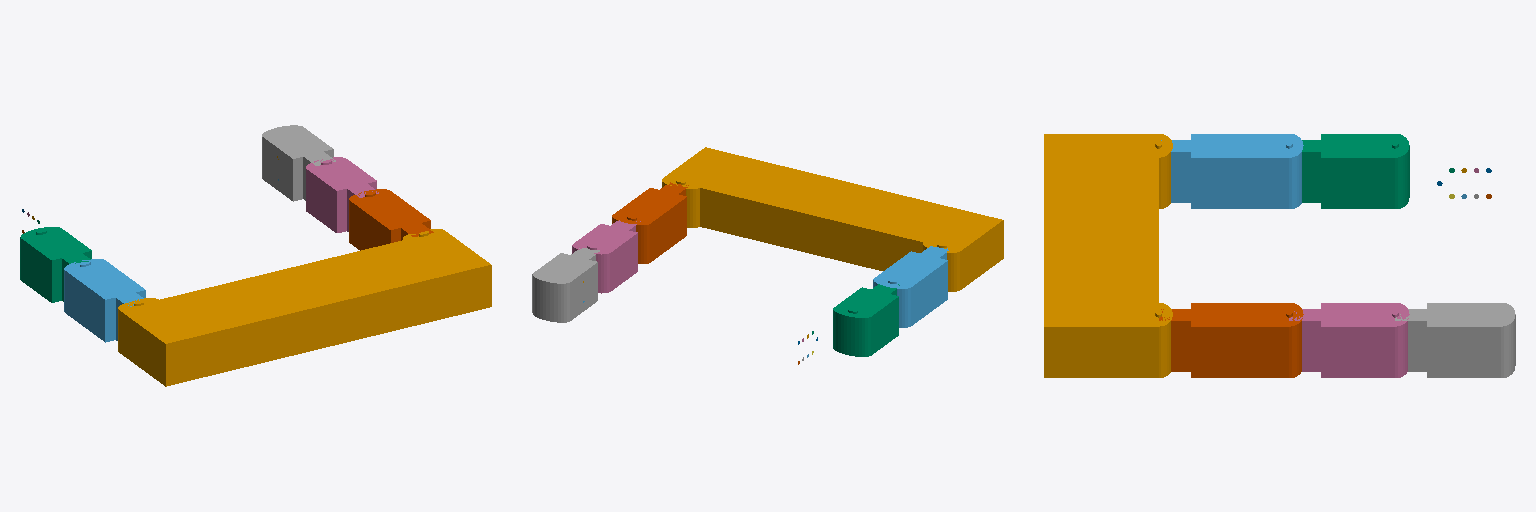
URDF robot description (testing1):
<?xml version="1.0" ?>
<robot name="testing1">

    <link name="body_palm_lpinvrspring">
        <visual>
            <origin rpy="0 1.5707963267948966 0" xyz="0 0 0"/>
            <geometry>
                <mesh filename="obj_files/body_palm_lpinvrspring.obj" scale="1 1 1"/>
            </geometry>
        </visual>
        <collision>
            <geometry>
                <mesh filename="obj_files/body_palm_lpinvrspring_collision.obj" scale="1 1 1"/>
            </geometry>
        </collision>
    </link>

    <joint name="l_prox_pin" type="revolute">
        <parent link="body_palm_lpinvrspring"/>
        <child link="body_l_prox_pinvpin"/>
        <origin rpy="0 0 0" xyz="-0.07 0.04 0"/>
        <axis xyz="0 0 1"/>
        <limit effort="1000.0" lower="-3.14" upper="3.14" velocity="0.5"/>
    </joint>

    <link name="body_l_prox_pinvpin">
        <visual>
            <origin rpy="0 1.5707963267948966 0" xyz="0 0 0"/>
            <geometry>
                <mesh filename="obj_files/body_l_prox_pinvpin.obj" scale="1 1 1"/>
            </geometry>
        </visual>
        <collision>
            <geometry>
                <mesh filename="obj_files/body_l_prox_pinvpin_collision.obj" scale="1 1 1"/>
            </geometry>
        </collision>
    </link>

    <joint name="l_intermediate_pin" type="revolute">
        <parent link="body_l_prox_pinvpin"/>
        <child link="body_l_intermediate_pinvpin"/>
        <origin rpy="0 0 0" xyz="0 0.04575 0"/>
        <axis xyz="0 0 1"/>
        <limit effort="1000.0" lower="-3.14" upper="3.14" velocity="0.5"/>
    </joint>

    <link name="body_l_intermediate_pinvpin">
        <visual>
            <origin rpy="0 1.5707963267948966 0" xyz="0 0 0"/>
            <geometry>
                <mesh filename="obj_files/body_l_intermediate_pinvpin.obj" scale="1 1 1"/>
            </geometry>
        </visual>
        <collision>
            <geometry>
                <mesh filename="obj_files/body_l_intermediate_pinvpin_collision.obj" scale="1 1 1"/>
            </geometry>
        </collision>
    </link>

    <joint name="l_distal_pin" type="revolute">
        <parent link="body_l_intermediate_pinvpin"/>
        <child link="body_l_distal_pinvround"/>
        <origin rpy="0 0 0" xyz="0 0.037125 0"/>
        <axis xyz="0 0 1"/>
        <limit effort="1000.0" lower="-3.14" upper="3.14" velocity="0.5"/>
    </joint>

    <link name="body_l_distal_pinvround">
        <visual>
            <origin rpy="0 1.5707963267948966 0" xyz="0 0 0"/>
            <geometry>
                <mesh filename="obj_files/body_l_distal_pinvround.obj" scale="1 1 1"/>
            </geometry>
        </visual>
        <collision>
            <geometry>
                <mesh filename="obj_files/body_l_distal_pinvround_collision.obj" scale="1 1 1"/>
            </geometry>
        </collision>
    </link>

    <joint name="l_sensor_0" type="fixed">
        <parent link="body_l_distal_pinvround"/>
        <child link="l_sensor_0"/>
        <origin rpy="0 0 0" xyz="0.01 0.032812499999999994 0.005"/>
        <axis xyz="0 0 0"/>
        <limit effort="1000.0" lower="-3.14" upper="3.14" velocity="0.5"/>
    </joint>

    <link name="l_sensor_0">
        <visual>
            <origin rpy="0 0 0" xyz="0 0 0"/>
            <geometry>
                <mesh filename="obj_files/sensor.obj" scale="1 1 1"/>
            </geometry>
        </visual>
        <collision>
            <geometry>
                <mesh filename="obj_files/sensor_collision.obj" scale="1 1 1"/>
            </geometry>
        </collision>
    </link>

    <joint name="l_sensor_1" type="fixed">
        <parent link="body_l_distal_pinvround"/>
        <child link="l_sensor_1"/>
        <origin rpy="0 0 0" xyz="0.01 0.032812499999999994 -0.005"/>
        <axis xyz="0 0 0"/>
        <limit effort="1000.0" lower="-3.14" upper="3.14" velocity="0.5"/>
    </joint>

    <link name="l_sensor_1">
        <visual>
            <origin rpy="0 0 0" xyz="0 0 0"/>
            <geometry>
                <mesh filename="obj_files/sensor.obj" scale="1 1 1"/>
            </geometry>
        </visual>
        <collision>
            <geometry>
                <mesh filename="obj_files/sensor_collision.obj" scale="1 1 1"/>
            </geometry>
        </collision>
    </link>

    <joint name="l_sensor_2" type="fixed">
        <parent link="body_l_distal_pinvround"/>
        <child link="l_sensor_2"/>
        <origin rpy="0 0 0" xyz="0.01 0.028499999999999994 0.005"/>
        <axis xyz="0 0 0"/>
        <limit effort="1000.0" lower="-3.14" upper="3.14" velocity="0.5"/>
    </joint>

    <link name="l_sensor_2">
        <visual>
            <origin rpy="0 0 0" xyz="0 0 0"/>
            <geometry>
                <mesh filename="obj_files/sensor.obj" scale="1 1 1"/>
            </geometry>
        </visual>
        <collision>
            <geometry>
                <mesh filename="obj_files/sensor_collision.obj" scale="1 1 1"/>
            </geometry>
        </collision>
    </link>

    <joint name="l_sensor_3" type="fixed">
        <parent link="body_l_distal_pinvround"/>
        <child link="l_sensor_3"/>
        <origin rpy="0 0 0" xyz="0.01 0.028499999999999994 -0.005"/>
        <axis xyz="0 0 0"/>
        <limit effort="1000.0" lower="-3.14" upper="3.14" velocity="0.5"/>
    </joint>

    <link name="l_sensor_3">
        <visual>
            <origin rpy="0 0 0" xyz="0 0 0"/>
            <geometry>
                <mesh filename="obj_files/sensor.obj" scale="1 1 1"/>
            </geometry>
        </visual>
        <collision>
            <geometry>
                <mesh filename="obj_files/sensor_collision.obj" scale="1 1 1"/>
            </geometry>
        </collision>
    </link>

    <joint name="l_sensor_4" type="fixed">
        <parent link="body_l_distal_pinvround"/>
        <child link="l_sensor_4"/>
        <origin rpy="0 0 0" xyz="0.01 0.024187499999999994 0.005"/>
        <axis xyz="0 0 0"/>
        <limit effort="1000.0" lower="-3.14" upper="3.14" velocity="0.5"/>
    </joint>

    <link name="l_sensor_4">
        <visual>
            <origin rpy="0 0 0" xyz="0 0 0"/>
            <geometry>
                <mesh filename="obj_files/sensor.obj" scale="1 1 1"/>
            </geometry>
        </visual>
        <collision>
            <geometry>
                <mesh filename="obj_files/sensor_collision.obj" scale="1 1 1"/>
            </geometry>
        </collision>
    </link>

    <joint name="l_sensor_5" type="fixed">
        <parent link="body_l_distal_pinvround"/>
        <child link="l_sensor_5"/>
        <origin rpy="0 0 0" xyz="0.01 0.024187499999999994 -0.005"/>
        <axis xyz="0 0 0"/>
        <limit effort="1000.0" lower="-3.14" upper="3.14" velocity="0.5"/>
    </joint>

    <link name="l_sensor_5">
        <visual>
            <origin rpy="0 0 0" xyz="0 0 0"/>
            <geometry>
                <mesh filename="obj_files/sensor.obj" scale="1 1 1"/>
            </geometry>
        </visual>
        <collision>
            <geometry>
                <mesh filename="obj_files/sensor_collision.obj" scale="1 1 1"/>
            </geometry>
        </collision>
    </link>

    <joint name="l_sensor_6" type="fixed">
        <parent link="body_l_distal_pinvround"/>
        <child link="l_sensor_6"/>
        <origin rpy="0 0 0" xyz="0.01 0.019874999999999993 0.005"/>
        <axis xyz="0 0 0"/>
        <limit effort="1000.0" lower="-3.14" upper="3.14" velocity="0.5"/>
    </joint>

    <link name="l_sensor_6">
        <visual>
            <origin rpy="0 0 0" xyz="0 0 0"/>
            <geometry>
                <mesh filename="obj_files/sensor.obj" scale="1 1 1"/>
            </geometry>
        </visual>
        <collision>
            <geometry>
                <mesh filename="obj_files/sensor_collision.obj" scale="1 1 1"/>
            </geometry>
        </collision>
    </link>

    <joint name="l_sensor_7" type="fixed">
        <parent link="body_l_distal_pinvround"/>
        <child link="l_sensor_7"/>
        <origin rpy="0 0 0" xyz="0.01 0.019874999999999993 -0.005"/>
        <axis xyz="0 0 0"/>
        <limit effort="1000.0" lower="-3.14" upper="3.14" velocity="0.5"/>
    </joint>

    <link name="l_sensor_7">
        <visual>
            <origin rpy="0 0 0" xyz="0 0 0"/>
            <geometry>
                <mesh filename="obj_files/sensor.obj" scale="1 1 1"/>
            </geometry>
        </visual>
        <collision>
            <geometry>
                <mesh filename="obj_files/sensor_collision.obj" scale="1 1 1"/>
            </geometry>
        </collision>
    </link>

    <joint name="l_sensor_8" type="fixed">
        <parent link="body_l_distal_pinvround"/>
        <child link="l_sensor_8"/>
        <origin rpy="0 0 0" xyz="0.01 0.015562499999999993 0"/>
        <axis xyz="0 0 0"/>
        <limit effort="1000.0" lower="-3.14" upper="3.14" velocity="0.5"/>
    </joint>

    <link name="l_sensor_8">
        <visual>
            <origin rpy="0 0 0" xyz="0 0 0"/>
            <geometry>
                <mesh filename="obj_files/sensor.obj" scale="1 1 1"/>
            </geometry>
        </visual>
        <collision>
            <geometry>
                <mesh filename="obj_files/sensor_collision.obj" scale="1 1 1"/>
            </geometry>
        </collision>
    </link>

    <joint name="r_prox_pin" type="revolute">
        <parent link="body_palm_lpinvrspring"/>
        <child link="body_r_prox_pinvspring"/>
        <origin rpy="0 0 0" xyz="0.07 0.04 0"/>
        <axis xyz="0 0 1"/>
        <limit effort="1000.0" lower="-3.14" upper="3.14" velocity="0.5"/>
    </joint>

    <link name="body_r_prox_pinvspring">
        <visual>
            <origin rpy="0 1.5707963267948966 0" xyz="0 0 0"/>
            <geometry>
                <mesh filename="obj_files/body_r_prox_pinvspring.obj" scale="1 1 1"/>
            </geometry>
        </visual>
        <collision>
            <geometry>
                <mesh filename="obj_files/body_r_prox_pinvspring_collision.obj" scale="1 1 1"/>
            </geometry>
        </collision>
    </link>

    <joint name="r_intermediate_spring" type="revolute">
        <parent link="body_r_prox_pinvspring"/>
        <child link="body_r_intermediate_springvpin"/>
        <origin rpy="0 0 0" xyz="0 0.04575 0"/>
        <axis xyz="0 0 1"/>
        <limit effort="1000.0" lower="-3.14" upper="3.14" velocity="0.5"/>
    </joint>

    <link name="body_r_intermediate_springvpin">
        <visual>
            <origin rpy="0 1.5707963267948966 0" xyz="0 0 0"/>
            <geometry>
                <mesh filename="obj_files/body_r_intermediate_springvpin.obj" scale="1 1 1"/>
            </geometry>
        </visual>
        <collision>
            <geometry>
                <mesh filename="obj_files/body_r_intermediate_springvpin_collision.obj" scale="1 1 1"/>
            </geometry>
        </collision>
    </link>

    <joint name="r_distal_pin" type="revolute">
        <parent link="body_r_intermediate_springvpin"/>
        <child link="body_r_distal_pinvround"/>
        <origin rpy="0 0 0" xyz="0 0.037125 0"/>
        <axis xyz="0 0 1"/>
        <limit effort="1000.0" lower="-3.14" upper="3.14" velocity="0.5"/>
    </joint>

    <link name="body_r_distal_pinvround">
        <visual>
            <origin rpy="0 1.5707963267948966 0" xyz="0 0 0"/>
            <geometry>
                <mesh filename="obj_files/body_r_distal_pinvround.obj" scale="1 1 1"/>
            </geometry>
        </visual>
        <collision>
            <geometry>
                <mesh filename="obj_files/body_r_distal_pinvround_collision.obj" scale="1 1 1"/>
            </geometry>
        </collision>
    </link>

    <joint name="r_sensor_0" type="fixed">
        <parent link="body_r_distal_pinvround"/>
        <child link="r_sensor_0"/>
        <origin rpy="0 0 0" xyz="-0.01 0.0241875 0.005"/>
        <axis xyz="0 0 0"/>
        <limit effort="1000.0" lower="-3.14" upper="3.14" velocity="0.5"/>
    </joint>

    <link name="r_sensor_0">
        <visual>
            <origin rpy="0 0 3.141592653589793" xyz="0 0 0"/>
            <geometry>
                <mesh filename="obj_files/sensor.obj" scale="1 1 1"/>
            </geometry>
        </visual>
        <collision>
            <geometry>
                <mesh filename="obj_files/sensor_collision.obj" scale="1 1 1"/>
            </geometry>
        </collision>
    </link>

    <joint name="r_sensor_1" type="fixed">
        <parent link="body_r_distal_pinvround"/>
        <child link="r_sensor_1"/>
        <origin rpy="0 0 0" xyz="-0.01 0.0241875 -0.005"/>
        <axis xyz="0 0 0"/>
        <limit effort="1000.0" lower="-3.14" upper="3.14" velocity="0.5"/>
    </joint>

    <link name="r_sensor_1">
        <visual>
            <origin rpy="0 0 3.141592653589793" xyz="0 0 0"/>
            <geometry>
                <mesh filename="obj_files/sensor.obj" scale="1 1 1"/>
            </geometry>
        </visual>
        <collision>
            <geometry>
                <mesh filename="obj_files/sensor_collision.obj" scale="1 1 1"/>
            </geometry>
        </collision>
    </link>

</robot>

--- Render facts (derived) ---
The picture shows the robot from 3 angles, left to right: view 1: azimuth 30°, elevation 25°; view 2: azimuth 150°, elevation 25°; view 3: azimuth 270°, elevation 25°; orthographic projection.
Robot: testing1 — 18 links, 17 joints (6 revolute, 11 fixed); root link body_palm_lpinvrspring; default pose: every joint at zero.
Visible links, largest first — view 1: body_palm_lpinvrspring, body_l_prox_pinvpin, body_r_distal_pinvround, body_r_prox_pinvspring, body_l_intermediate_pinvpin, body_r_intermediate_springvpin; view 2: body_palm_lpinvrspring, body_r_distal_pinvround, body_l_intermediate_pinvpin, body_l_prox_pinvpin, body_r_prox_pinvspring, body_r_intermediate_springvpin; view 3: body_palm_lpinvrspring, body_l_prox_pinvpin, body_r_prox_pinvspring, body_r_distal_pinvround, body_l_intermediate_pinvpin, body_r_intermediate_springvpin.
Link boxes in pixels (box(x1,y1,x2,y2)): body_palm_lpinvrspring: box(118, 229, 491, 386); body_l_prox_pinvpin: box(64, 259, 145, 342); body_r_distal_pinvround: box(262, 125, 335, 201); body_r_prox_pinvspring: box(349, 189, 433, 250); body_l_intermediate_pinvpin: box(20, 227, 91, 302); body_r_intermediate_springvpin: box(306, 157, 378, 232); body_palm_lpinvrspring: box(662, 147, 1003, 291); body_r_distal_pinvround: box(532, 248, 599, 322); body_l_intermediate_pinvpin: box(833, 284, 899, 356); body_l_prox_pinvpin: box(873, 246, 948, 327); body_r_prox_pinvspring: box(612, 182, 688, 263); body_r_intermediate_springvpin: box(572, 220, 640, 293); body_palm_lpinvrspring: box(1044, 134, 1172, 377); body_l_prox_pinvpin: box(1161, 134, 1303, 208); body_r_prox_pinvspring: box(1159, 303, 1303, 377); body_r_distal_pinvround: box(1395, 303, 1515, 377); body_l_intermediate_pinvpin: box(1302, 134, 1409, 208); body_r_intermediate_springvpin: box(1289, 303, 1409, 377).
Bounding box of the posed robot: 0.16 × 0.165 × 0.022 m (x, y, z).
17 mesh visuals loaded from 8 distinct referenced files (7 OBJ); not drawn: 1 (reference not matched to a file when rendering).